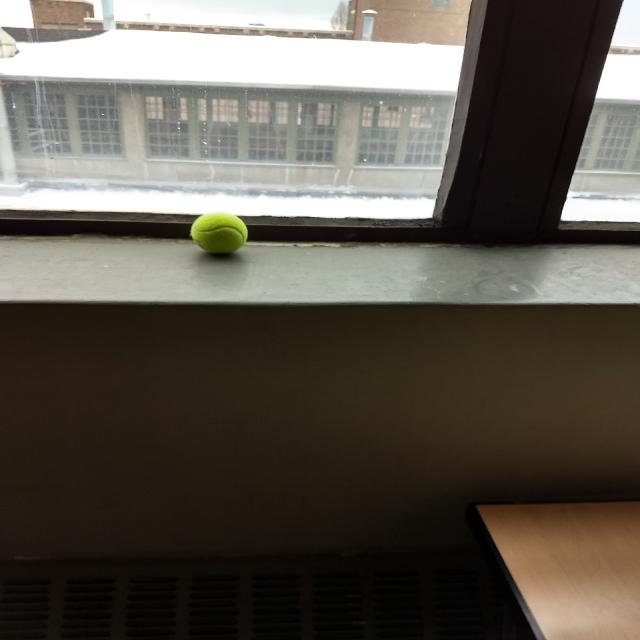Tennis-Ball: (124, 193, 302, 307)
